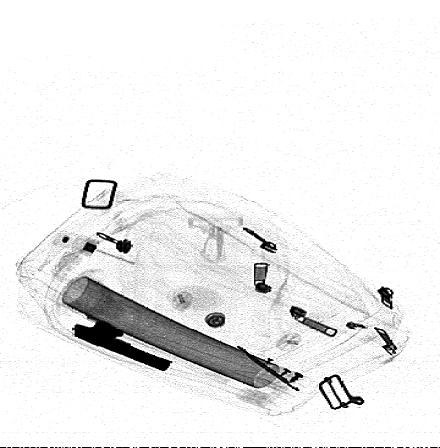Gun: (75, 320, 171, 372)
